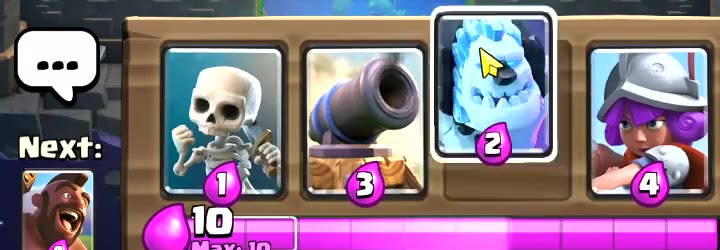cannon: (314, 50, 427, 195)
hog-rider: (23, 171, 93, 250)
ice-golem: (438, 11, 547, 153)
musketeer: (595, 46, 709, 201)
